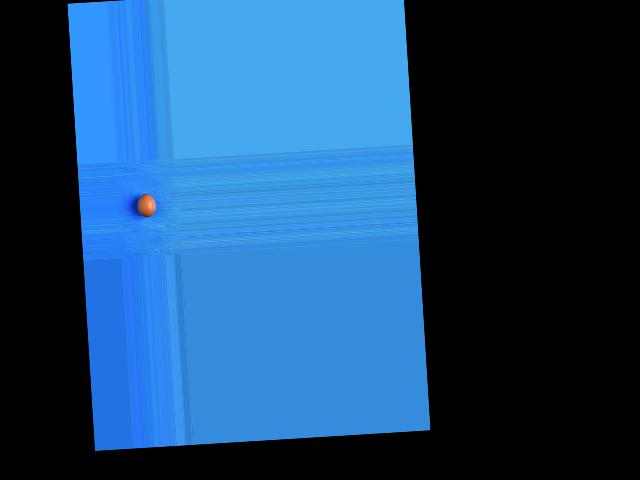egg: (136, 193, 156, 217)
